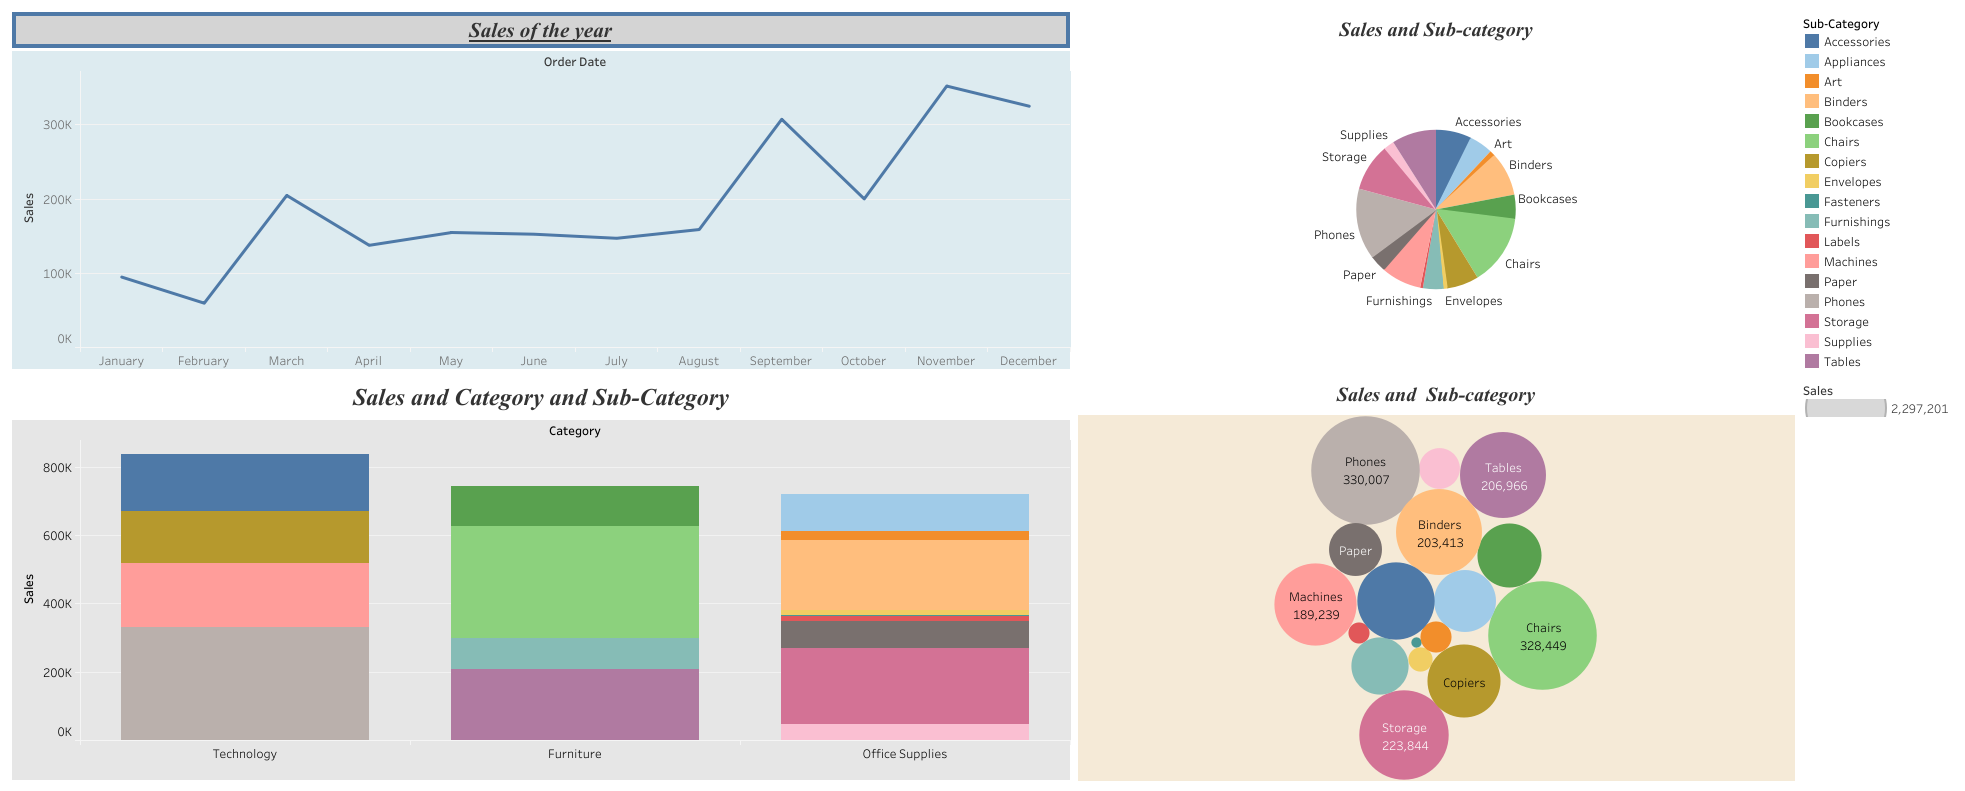

This screenshot's page, from the dashboard's own definition file:
{"tool":"tableau","page":{"name":"Dashboard 1","canvas":[1000,1000],"units":"permille","ordinal":0},"visuals":[{"type":"worksheet","title":"line chart q5","mark":"Line","rows":["Sales"],"cols":["Order Date"],"box":[6,11.8,516.2,459.5]},{"type":"worksheet","title":"pie chart q8","mark":"Pie","box":[522.3,11.8,350.9,459.5]},{"type":"legend","title":"bar chart q1","param":"[federated.1bivvwv1tcjspc14eqmjx1nbz0v1].[none:Sub-Category:nk]","box":[873.2,11.8,120.8,539]},{"type":"worksheet","title":"bar chart q1","mark":"Automatic","rows":["Sales"],"cols":["Category"],"box":[6,471.3,516.2,516.9]},{"type":"worksheet","title":"bubble chart q6","mark":"Circle","box":[522.3,471.3,350.9,516.9]},{"type":"legend","title":"pie chart q8","param":"[federated.1bivvwv1tcjspc14eqmjx1nbz0v1].[sum:Sales:qk]","box":[873.2,550.8,120.8,67.7]}]}

Visuals, with their boxes on the dashboard's canvas, which has no fixed pixel size, in thousandths of its width and height (x1, y1, x2, y2). These are canvas units, not pixel positions in the 1965x791 screenshot, which may show the page scaled, cropped or inside an application window:
"line chart q5" worksheet (Line marks): [6,12,522,471]
"pie chart q8" worksheet (Pie marks): [522,12,873,471]
"bar chart q1" legend: [873,12,994,551]
"bar chart q1" worksheet: [6,471,522,988]
"bubble chart q6" worksheet (Circle marks): [522,471,873,988]
"pie chart q8" legend: [873,551,994,618]
